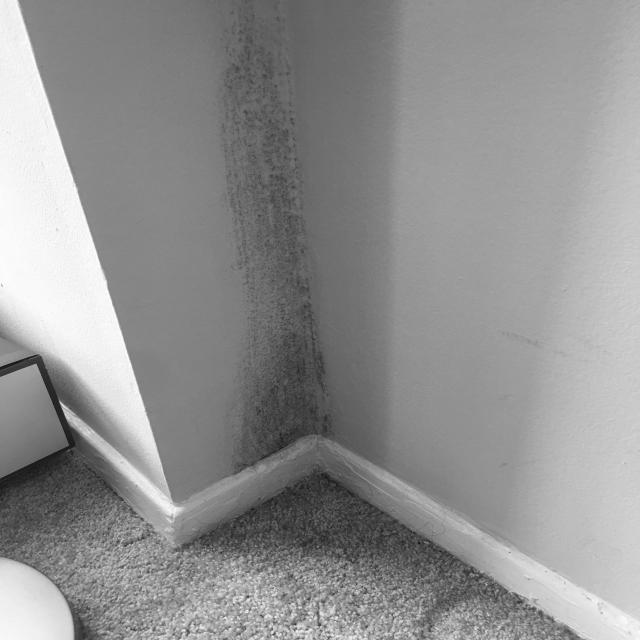stain marks: (208, 0, 340, 486)
